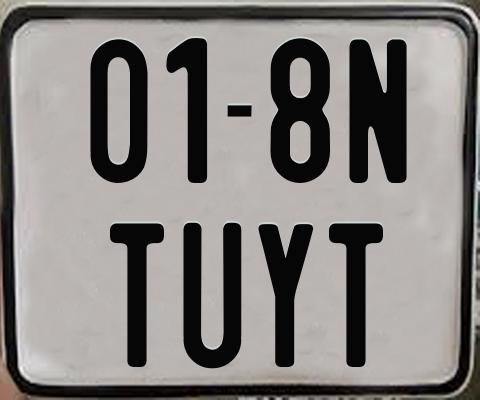0: (88, 37, 150, 185)
1: (164, 37, 207, 183)
8: (270, 36, 335, 182)
N: (347, 37, 410, 184)
T: (327, 220, 383, 368), (109, 221, 164, 368)
U: (183, 220, 245, 370)
Y: (255, 222, 310, 369)
